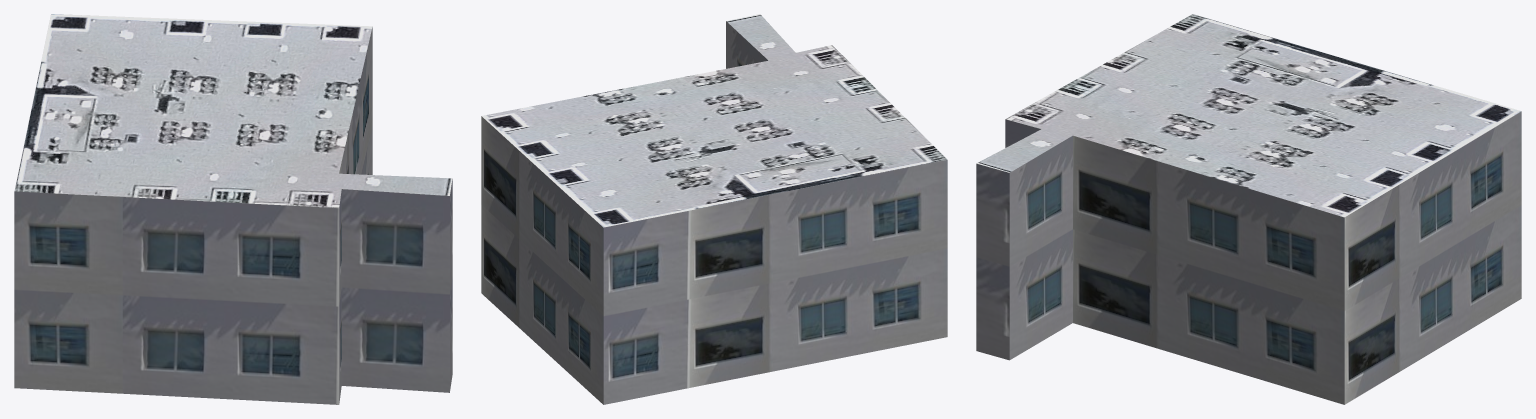
The model's file is ResTex__4706.fbx.
The picture shows the model from 3 angles, left to right: view 1: azimuth 30°, elevation 25°; view 2: azimuth 150°, elevation 25°; view 3: azimuth 270°, elevation 25°; orthographic projection. The views are drawn at different scales.
Visible parts, largest first — view 1: CityEngineMaterial_10_m, CityEngineMaterial_8_m; view 2: CityEngineMaterial_10_m, CityEngineMaterial_8_m; view 3: CityEngineMaterial_10_m, CityEngineMaterial_8_m.
Part boxes in pixels (<box>): CityEngineMaterial_10_m: <box>14,27,452,404</box>; CityEngineMaterial_8_m: <box>14,14,452,207</box>; CityEngineMaterial_10_m: <box>481,21,947,404</box>; CityEngineMaterial_8_m: <box>482,14,947,227</box>; CityEngineMaterial_10_m: <box>976,111,1521,404</box>; CityEngineMaterial_8_m: <box>976,14,1521,217</box>.
Bounding box in the file's own units: 13.97 × 6 × 15.82.
Materials: 2 (2 with a texture image).
